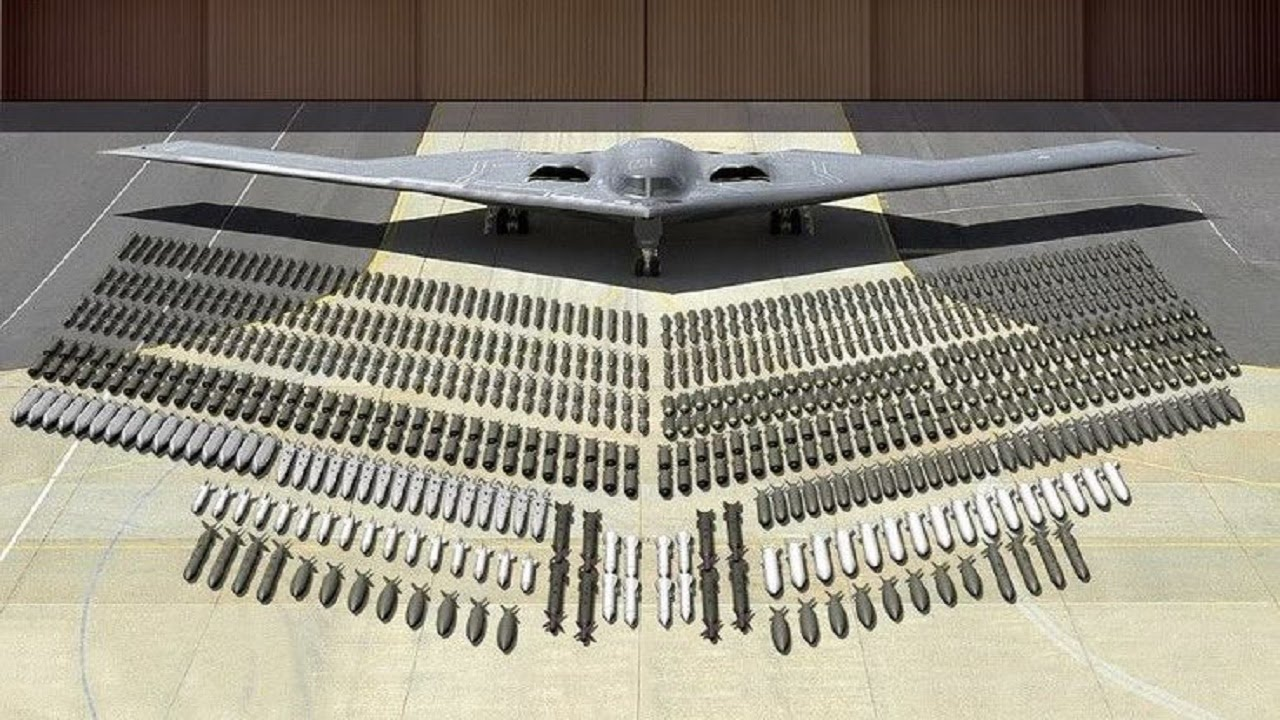B2: (96, 138, 1200, 276)
